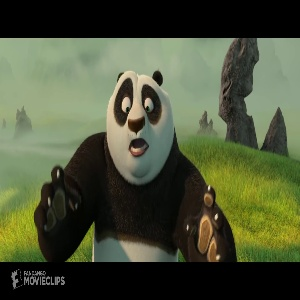po: (33, 65, 238, 262)
